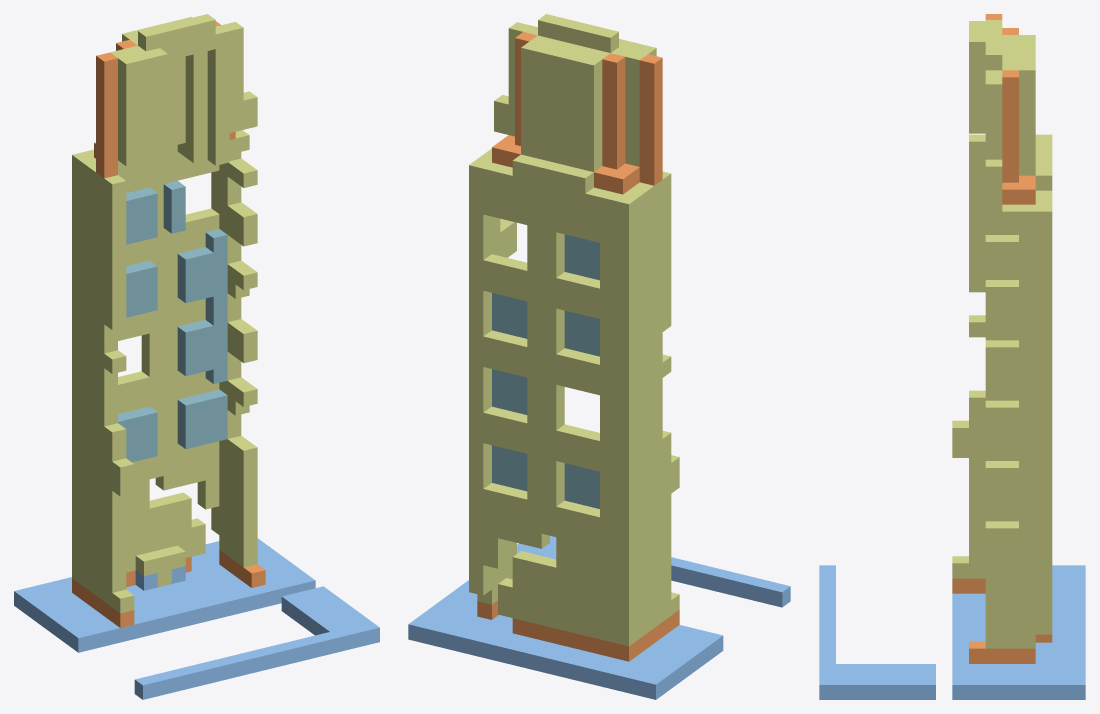
Rendered from building_3_collapsed.gltf.
3 views of the same model, side by side, from view 1: azimuth 30°, elevation 25°; view 2: azimuth 150°, elevation 25°; view 3: azimuth 270°, elevation 25° (orthographic). The views are drawn at different scales.
Parts seen in each view (by area): view 1: Layer.1; view 2: Layer.1; view 3: Layer.1.
Part boxes in pixels (<box>): Layer.1: <box>14,14,379,699</box>; Layer.1: <box>408,14,790,699</box>; Layer.1: <box>819,14,1085,699</box>.
Size of the model in its own units: 17 by 40 by 16.
Materials: 1 (1 with a texture image).
